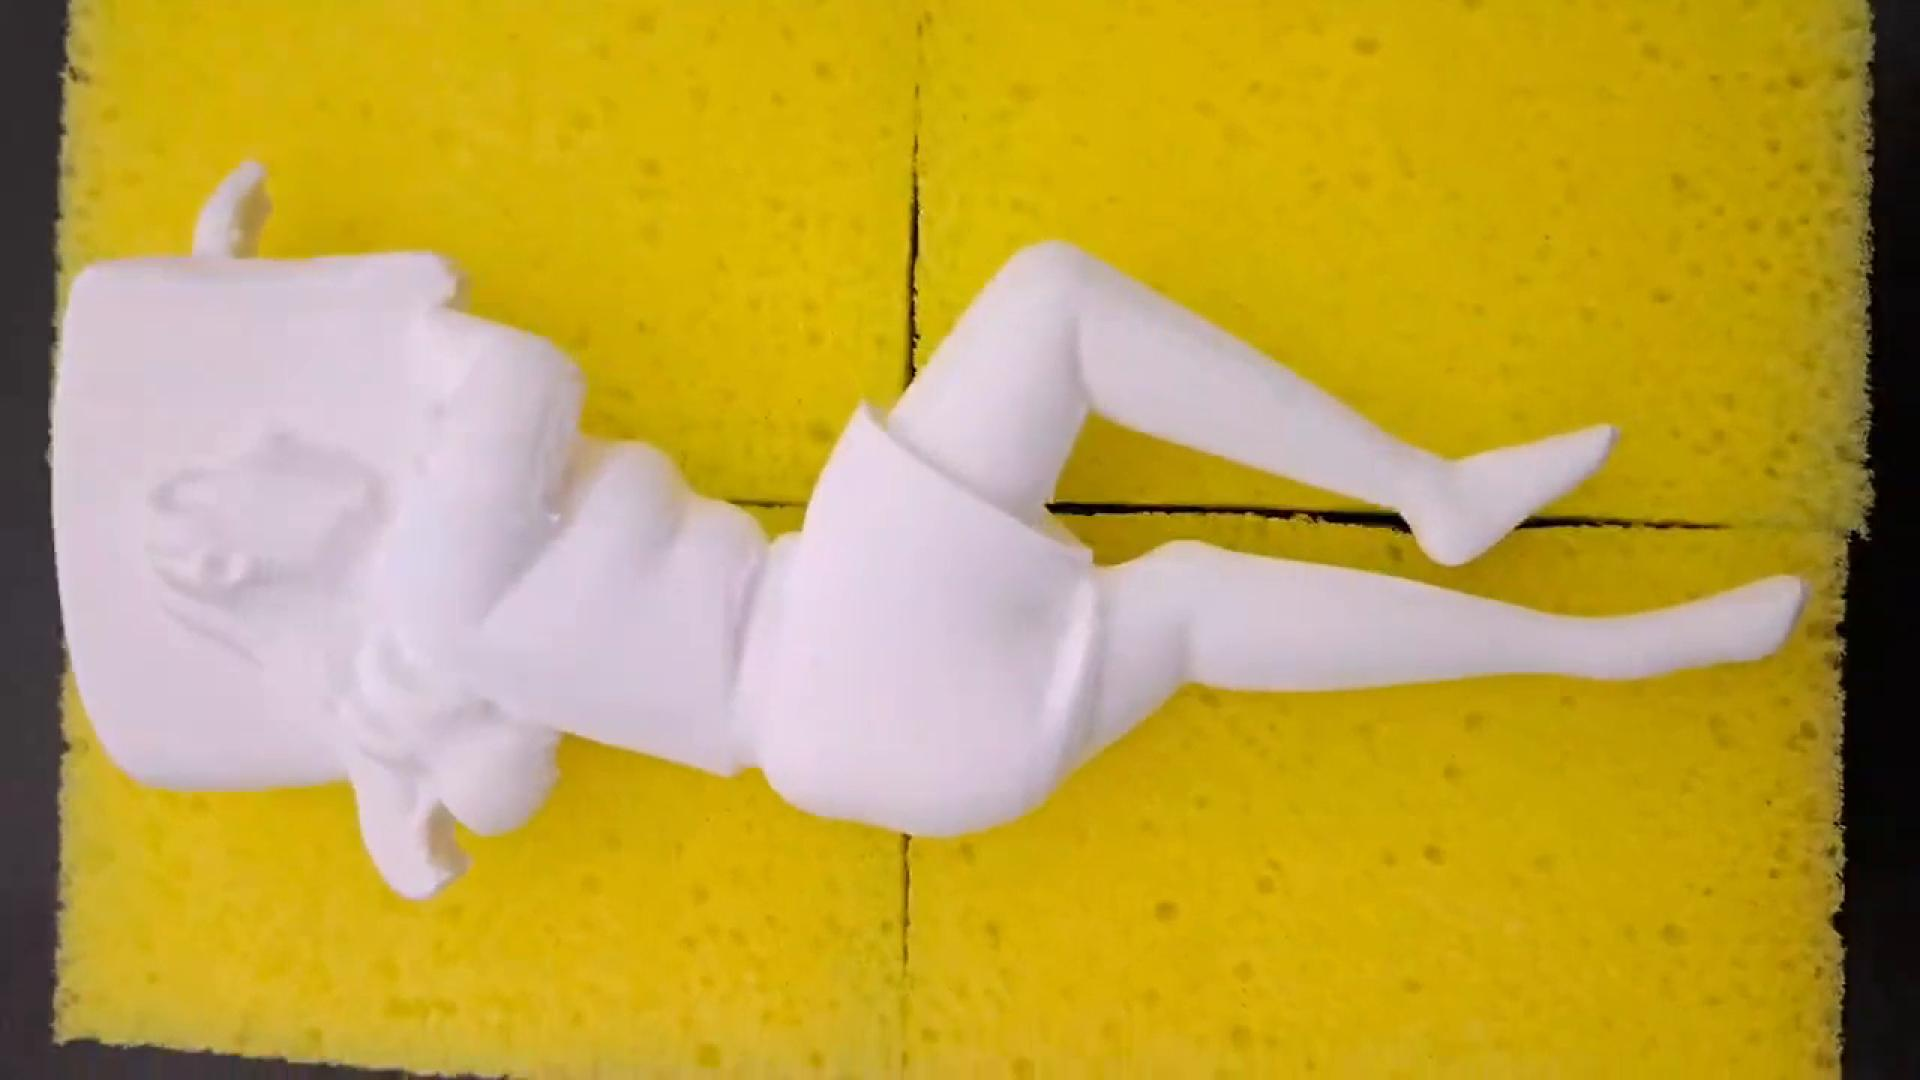Good-style: (46, 162, 1805, 897)
